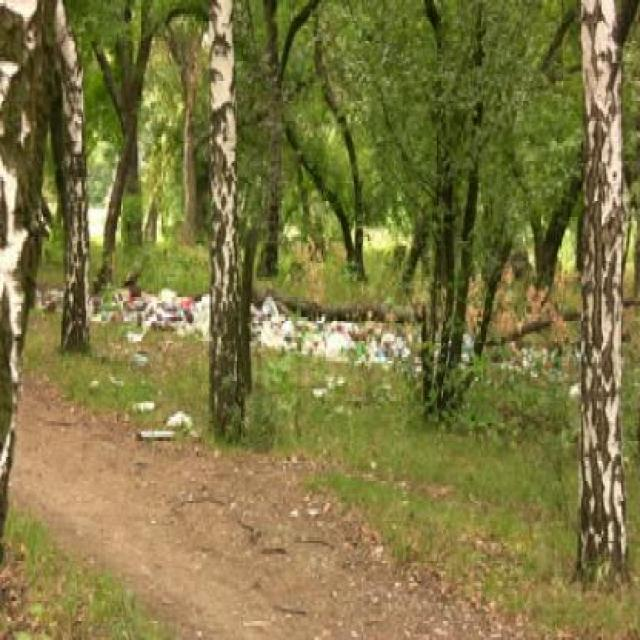garbage: (254, 294, 417, 379), (462, 329, 580, 394), (100, 286, 204, 349), (36, 277, 67, 320)
